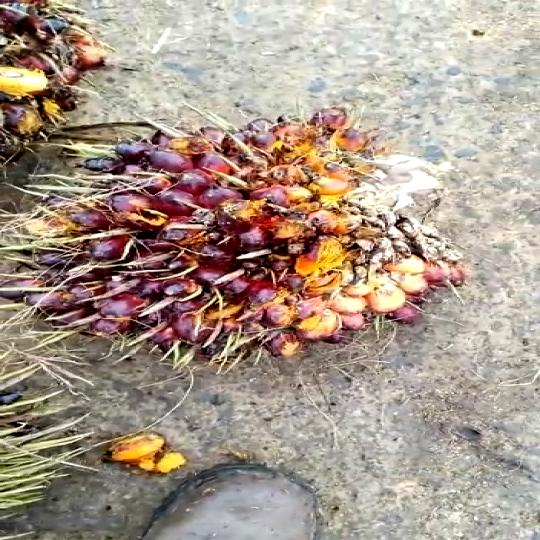masak: (0, 106, 490, 370)
